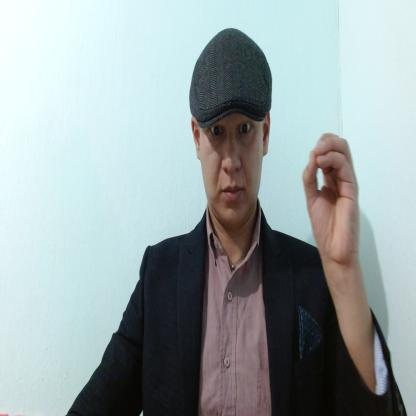O: (302, 126, 361, 268)
